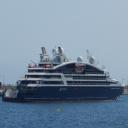cruises: (3, 49, 126, 103)
